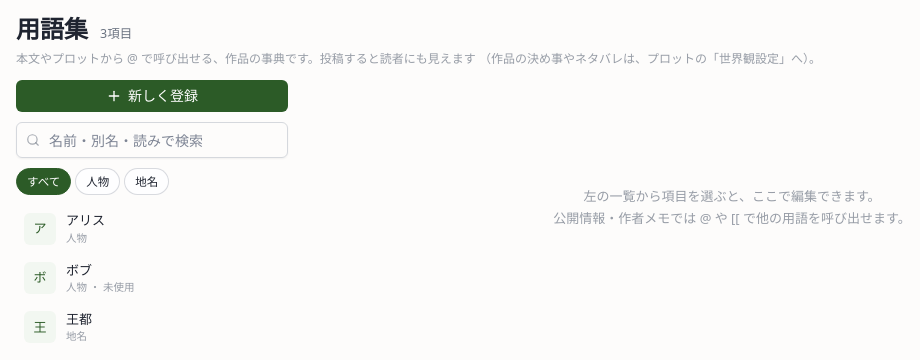
Test: GlossaryView（左右2カラム：一覧・検索・その場編集） › 検索は name・別名・読みに部分一致
The width and height of the screenshot is (920, 360).
Type "ありす" into the field named "用語集を検索". click: (152, 140)
box: left=16, top=122, right=288, bottom=158
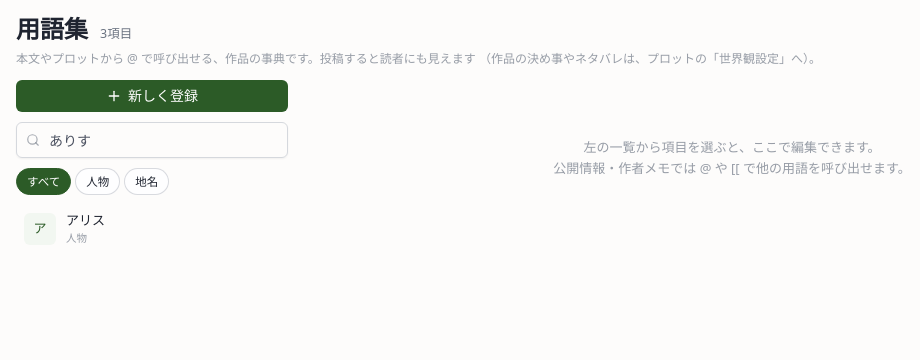
Check: the button with aria-label "「アリス」を編集" is shown, box left=16, top=205, right=288, bottom=252
Check: the button "「王都」を編集" is gone
